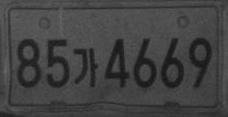4: (104, 38, 130, 87)
5: (45, 38, 70, 88)
6: (159, 38, 184, 88), (133, 39, 158, 88)
8: (16, 37, 41, 88)
9: (187, 36, 213, 88)
가: (73, 47, 99, 88)
